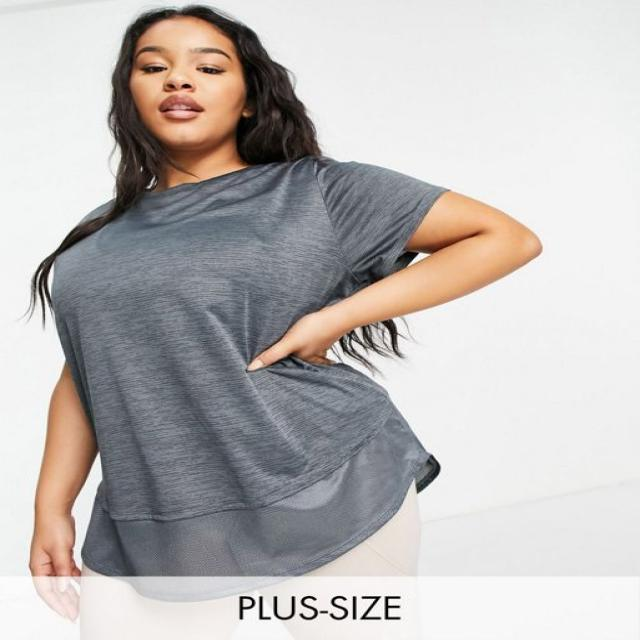tshirt: (46, 155, 448, 582)
